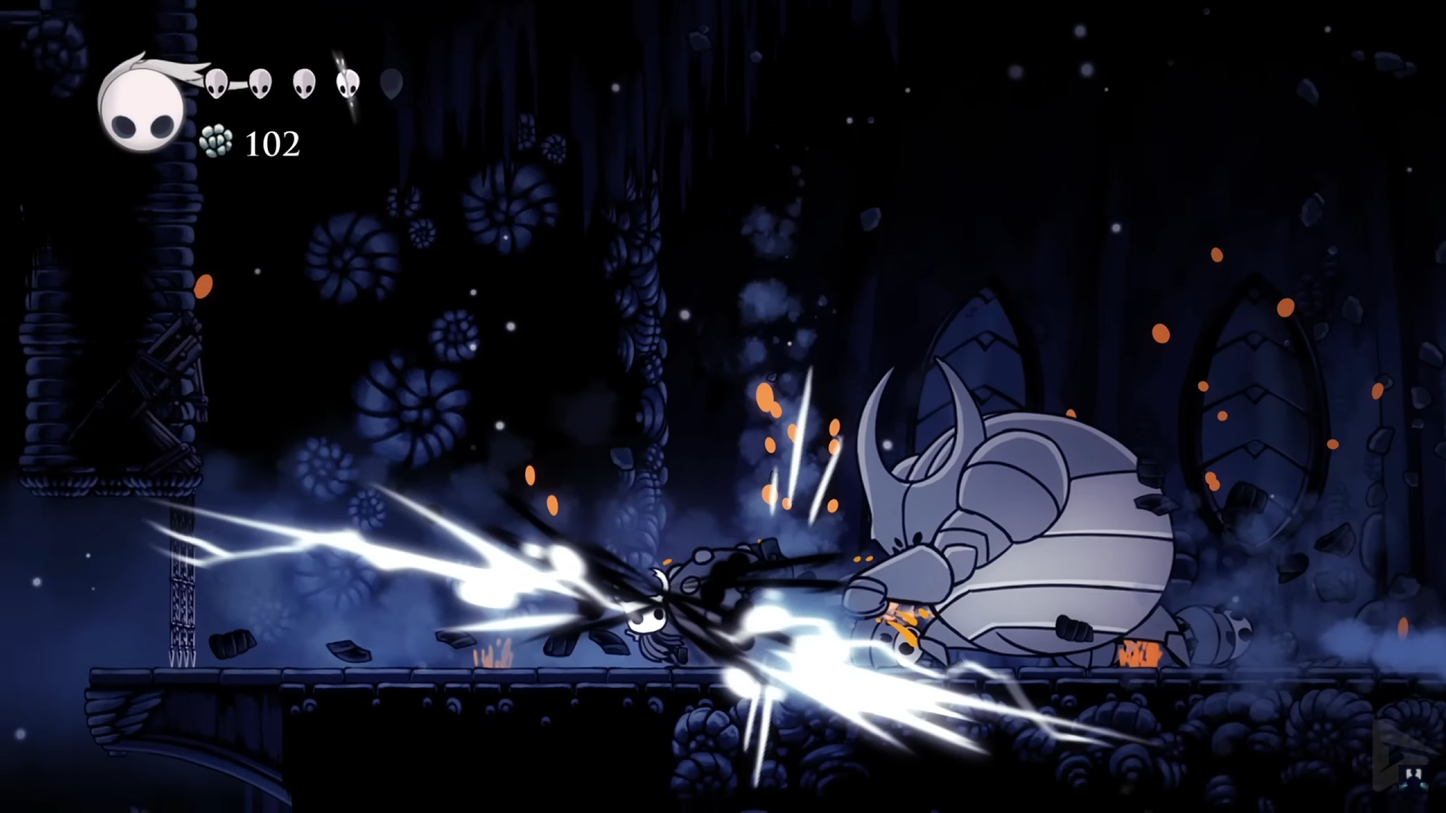HK: (610, 555, 688, 670)
